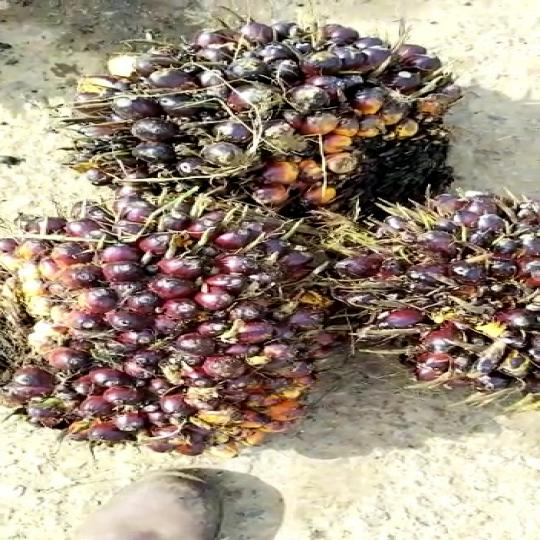kurang masak: (0, 196, 350, 469), (56, 6, 467, 231), (315, 194, 540, 404)
